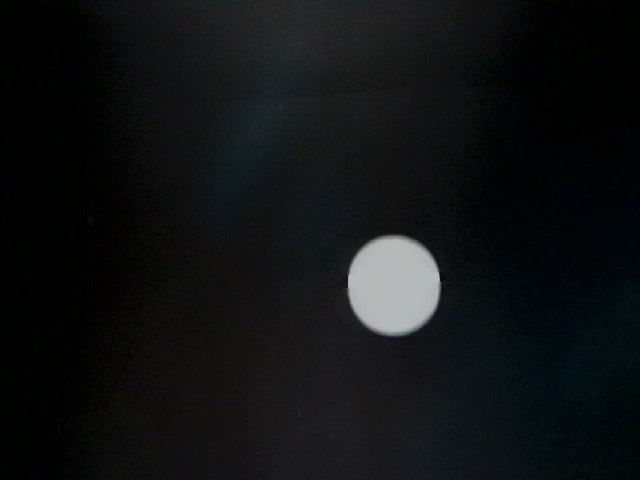CYLJ: (27, 45, 384, 382)
